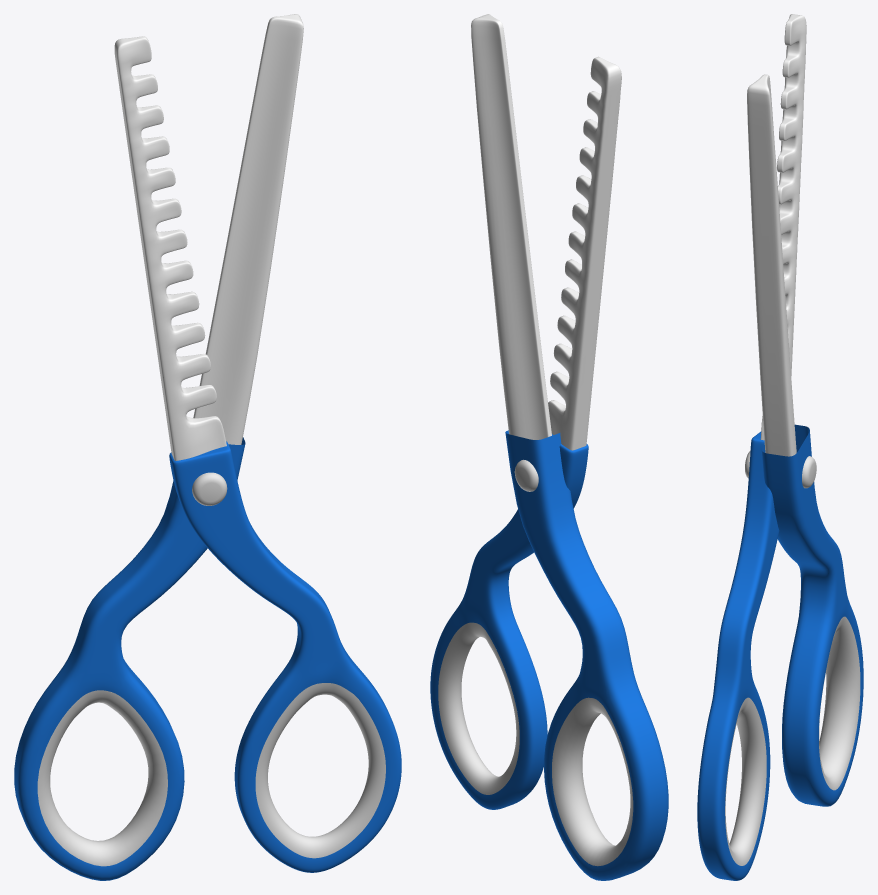
The model's file is scissors-3d-animated-icon-348062789861.glb.
3 views of the same model, side by side, from view 1: azimuth 30°, elevation 25°; view 2: azimuth 150°, elevation 25°; view 3: azimuth 270°, elevation 25° (orthographic). The views are drawn at different scales.
Visible parts, largest first — view 1: Plane.046, Plane.047, Plane.031, Plane.032, Cylinder.077; view 2: Plane.047, Plane.046, Plane.031, Plane.032, Cylinder.077; view 3: Plane.047, Plane.046, Plane.031, Plane.032, Cylinder.077.
Part boxes in pixels (bbox=[...]): Plane.046: bbox=[169, 441, 401, 872]; Plane.047: bbox=[14, 437, 245, 880]; Plane.031: bbox=[193, 14, 303, 444]; Plane.032: bbox=[114, 36, 226, 460]; Cylinder.077: bbox=[192, 472, 227, 505]; Plane.047: bbox=[505, 430, 668, 880]; Plane.046: bbox=[430, 434, 588, 809]; Plane.031: bbox=[471, 14, 551, 439]; Plane.032: bbox=[548, 56, 621, 450]; Cylinder.077: bbox=[514, 459, 538, 491]; Plane.047: bbox=[761, 424, 863, 806]; Plane.046: bbox=[697, 431, 779, 880]; Plane.031: bbox=[747, 74, 796, 456]; Plane.032: bbox=[760, 14, 806, 440]; Cylinder.077: bbox=[745, 450, 816, 488].
Bounding box in the file's own units: 2.17 × 5.57 × 1.06.
